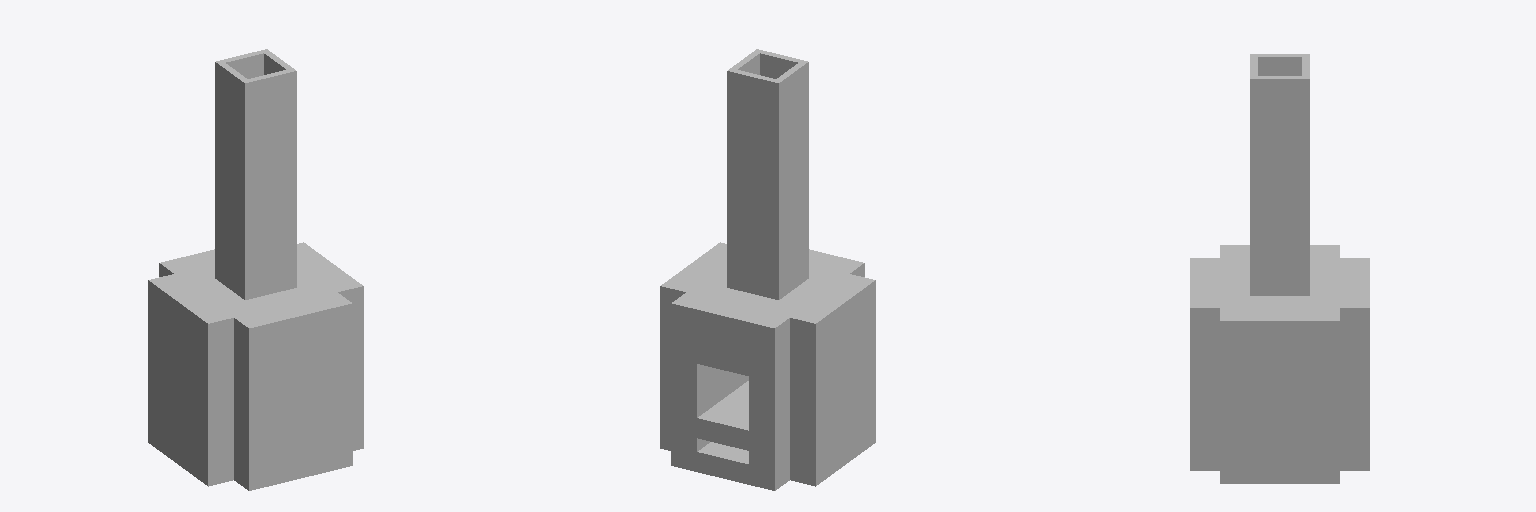
Rendered from masonry_heater.obj.
3 views of the same model, side by side, from view 1: azimuth 30°, elevation 25°; view 2: azimuth 150°, elevation 25°; view 3: azimuth 270°, elevation 25° (orthographic).
Parts seen in each view (by area): view 1: cube; view 2: cube; view 3: cube.
Boxes of the visible parts, x1=… form: cube: x1=148, y1=49, x2=363, y2=490; cube: x1=660, y1=49, x2=875, y2=490; cube: x1=1190, y1=54, x2=1369, y2=483.
Bounding box in the file's own units: 3 × 7 × 3.